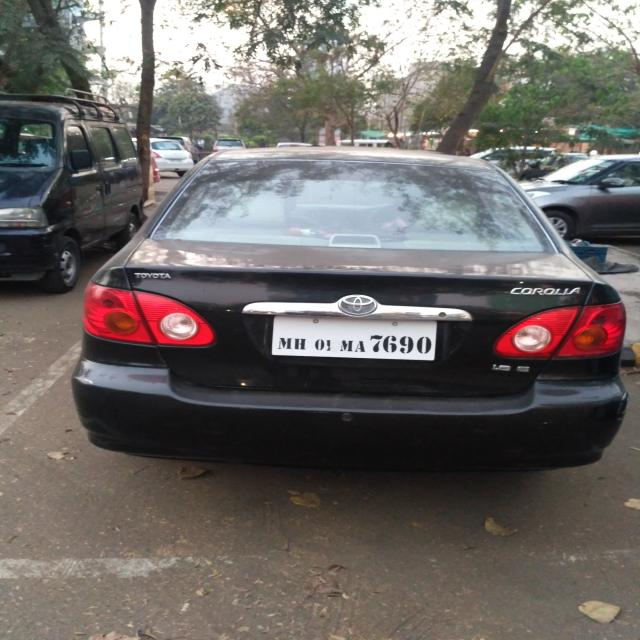Number-Plate: (274, 317, 438, 355)
